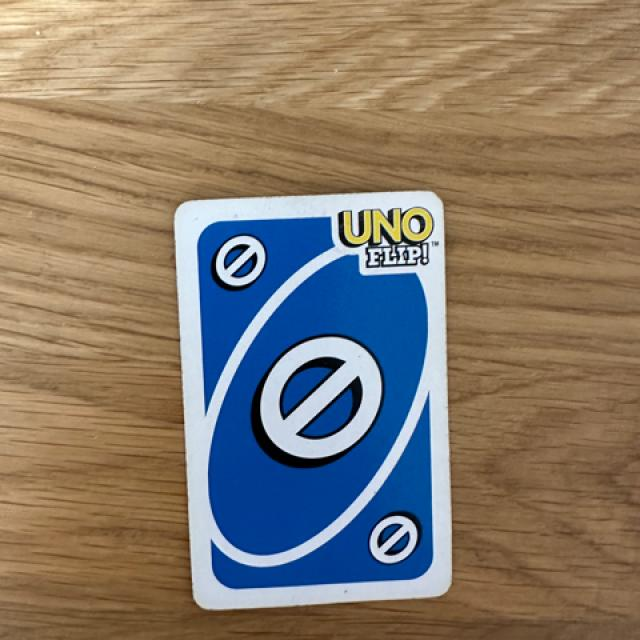lblueskip-20: (188, 212, 274, 311)
